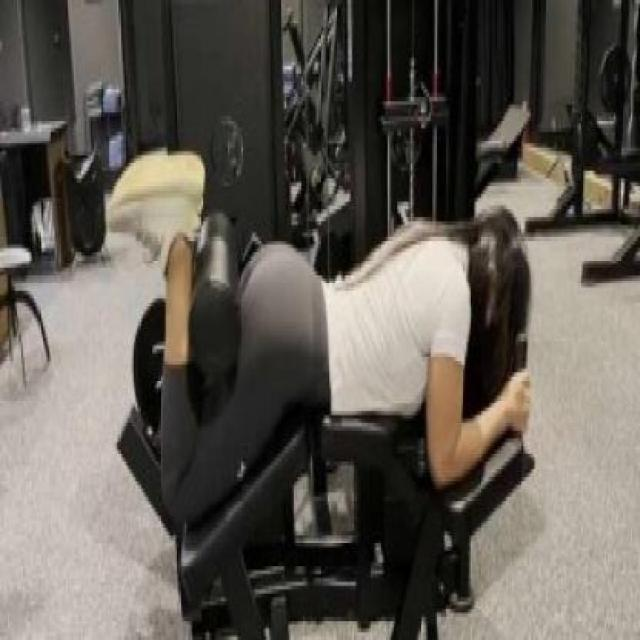reg curl machine: (98, 0, 536, 640)
